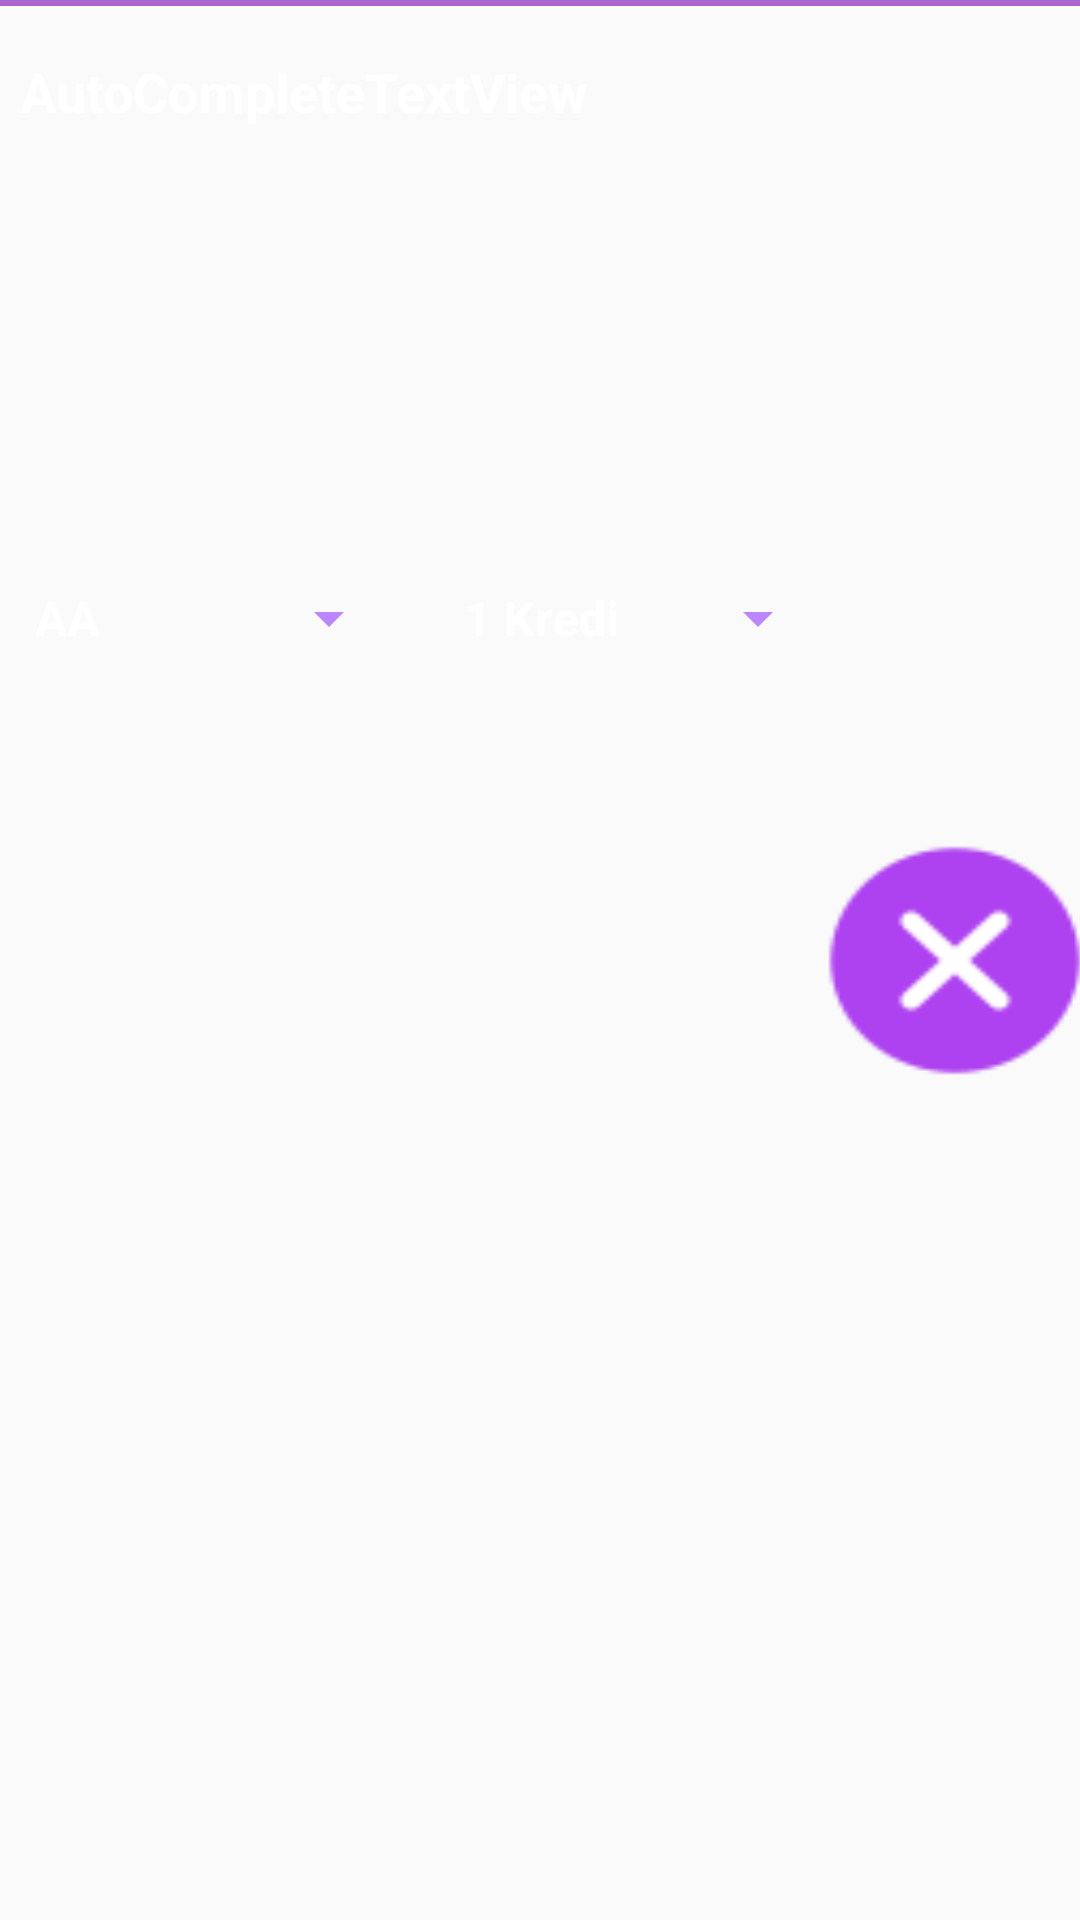

Where to tap for icons on this 1080*1920 app screen, as (x,y):
cancel: (954,960)
